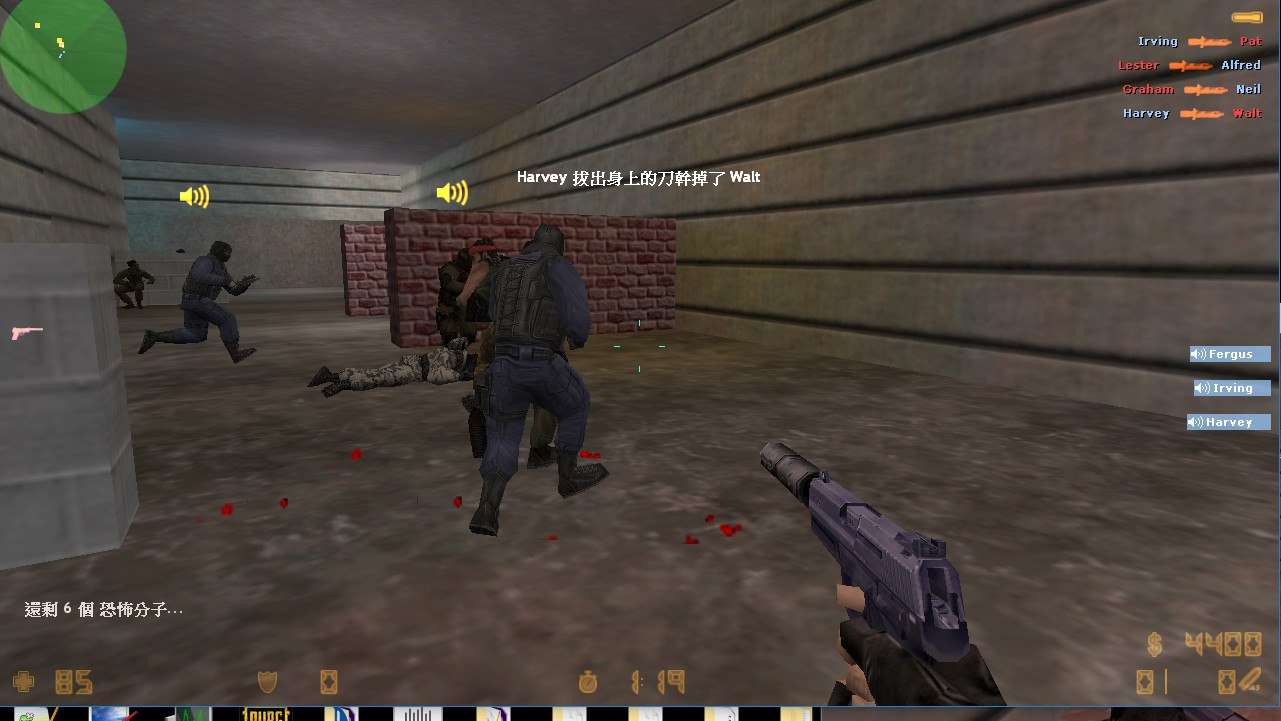person: (479, 218, 610, 513), (156, 236, 250, 365), (111, 256, 155, 314)
